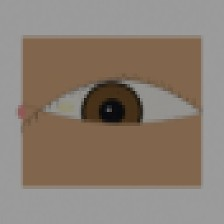pinguecula_lesion: (49, 94, 82, 121)
